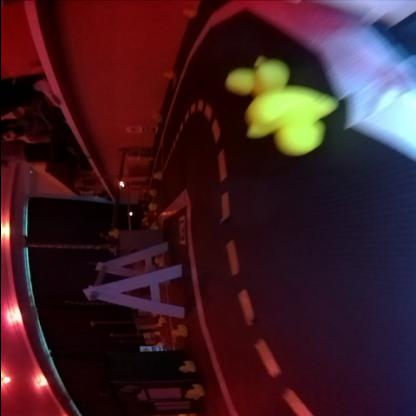Duckie: (246, 91, 336, 155), (222, 60, 288, 98), (186, 385, 202, 398), (179, 362, 193, 374), (170, 326, 186, 336)
QR code: (178, 216, 184, 244)
